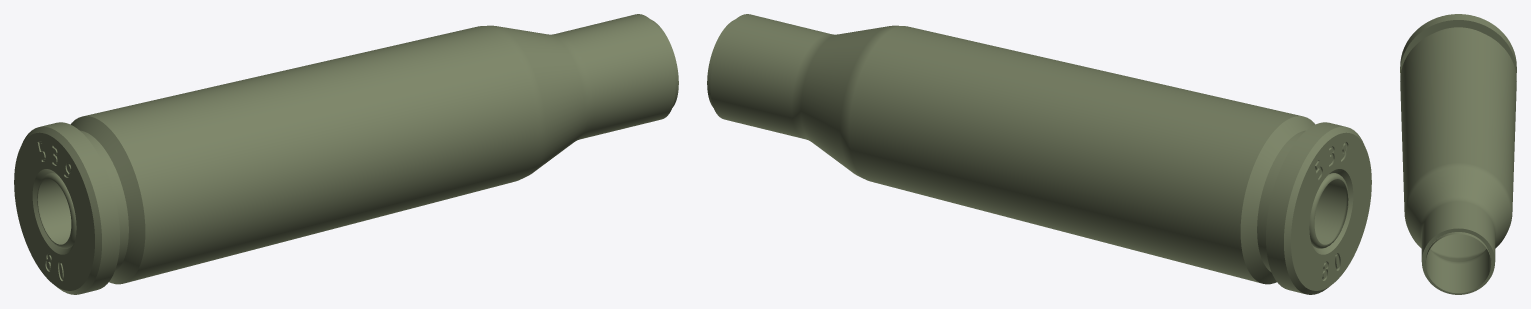
Rendered from Shell.fbx.
3 renders of one model, left to right at view 1: azimuth 30°, elevation 25°; view 2: azimuth 150°, elevation 25°; view 3: azimuth 270°, elevation 25°, orthographic. The views are drawn at different scales.
Parts seen in each view (by area): view 1: Shell; view 2: Shell; view 3: Shell.
Boxes of the visible parts, left/top/right/bottom form: Shell: left=14, top=14, right=678, bottom=294; Shell: left=707, top=14, right=1371, bottom=294; Shell: left=1400, top=14, right=1516, bottom=294.
Bounding box in the file's own units: 4.02 × 1 × 1.
